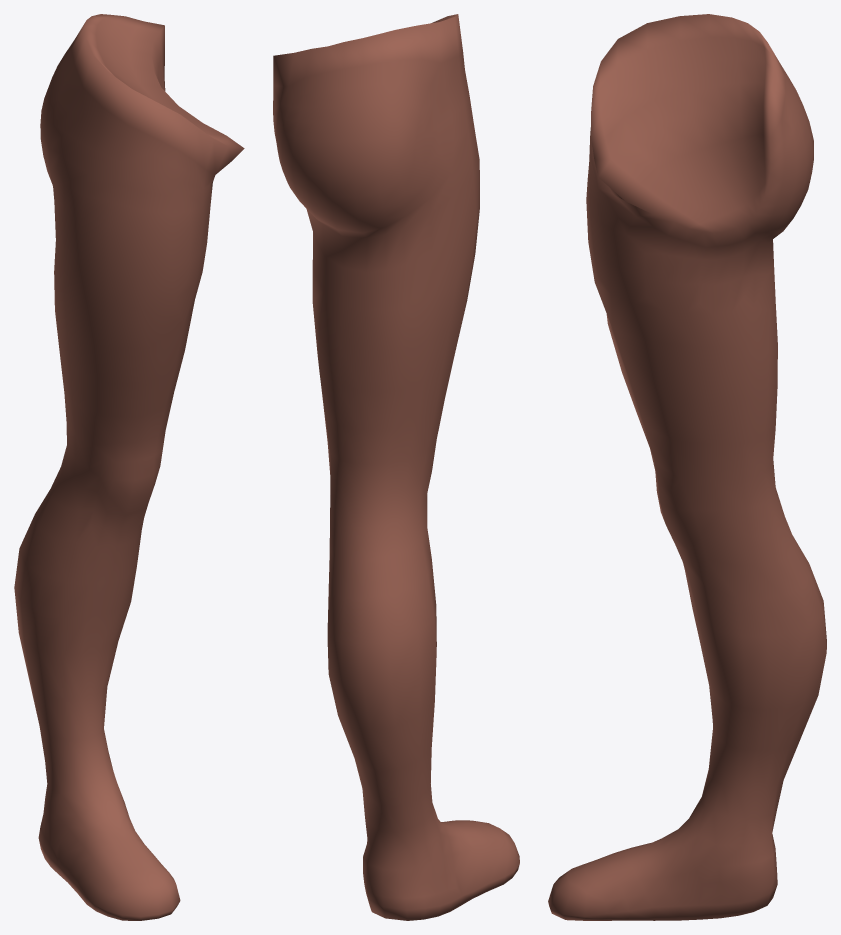
Rendered from Leg.R.fbx.
3 renders of one model, left to right at view 1: azimuth 30°, elevation 25°; view 2: azimuth 150°, elevation 25°; view 3: azimuth 270°, elevation 25°, orthographic. The views are drawn at different scales.
Parts seen in each view (by area): view 1: Leg.R; view 2: Leg.R; view 3: Leg.R.
Part boxes in pixels (left/top/right/bottom): Leg.R: left=14, top=14, right=244, bottom=920; Leg.R: left=273, top=14, right=519, bottom=920; Leg.R: left=548, top=14, right=826, bottom=920.
Size of the model in its own units: 74.27 by 397 by 111.
